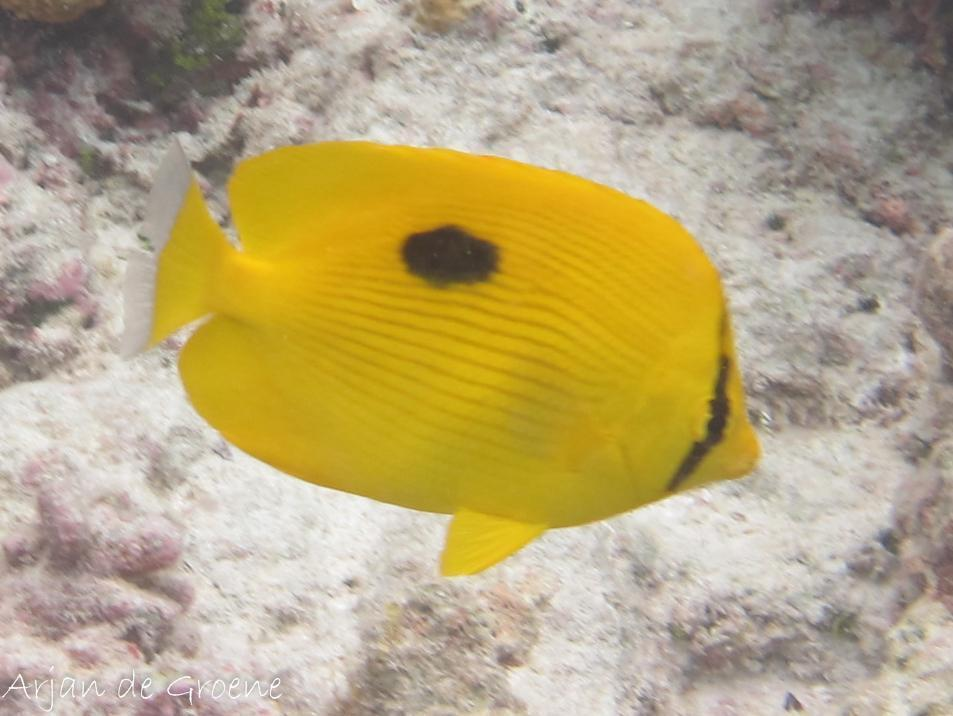Fish: (100, 130, 818, 606)
